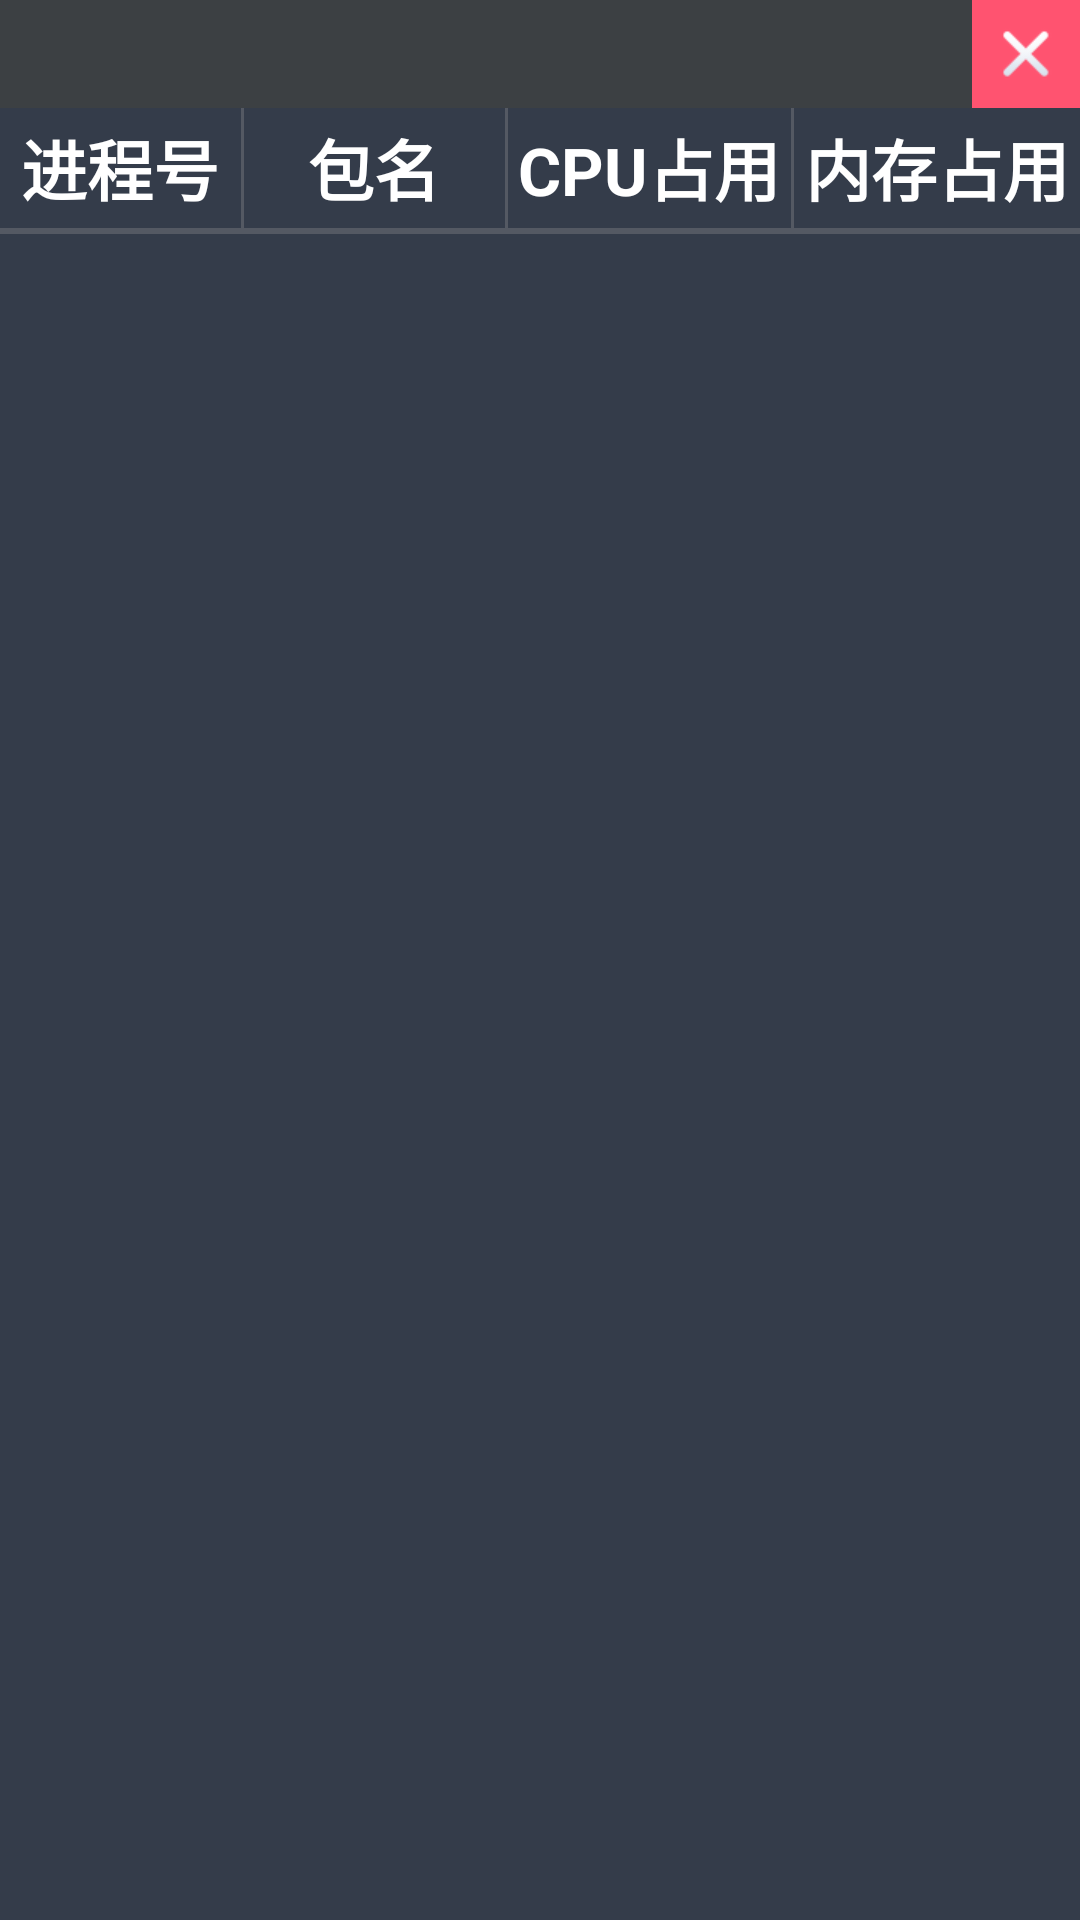

Icon click points for this 1080x1920 phone screenshot, format point (x, y):
close: point (1026, 54)
